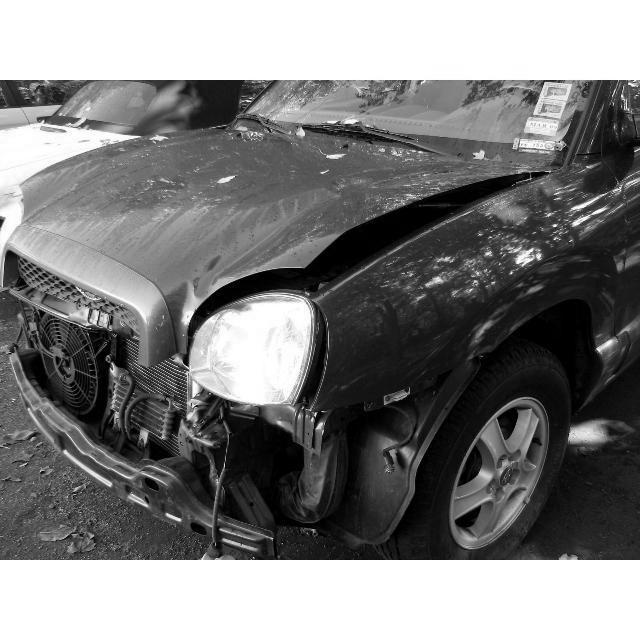Headlight-damage: (181, 291, 344, 471)
bonnet-dent: (12, 139, 520, 283)
front-bumper-dent: (0, 236, 202, 512)
